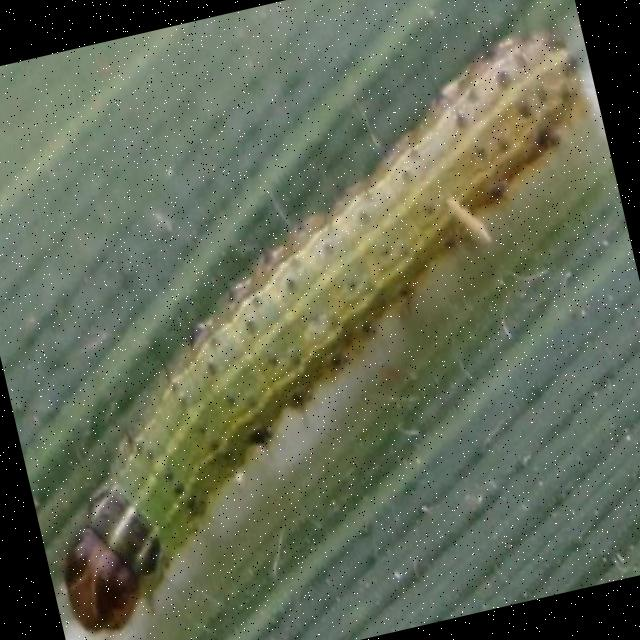worm: (1, 21, 640, 640), (42, 472, 182, 640)
